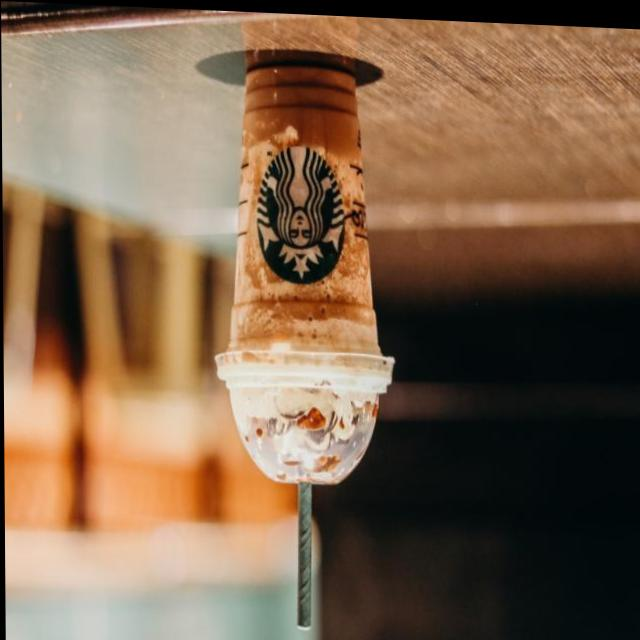cup: (215, 62, 392, 388)
